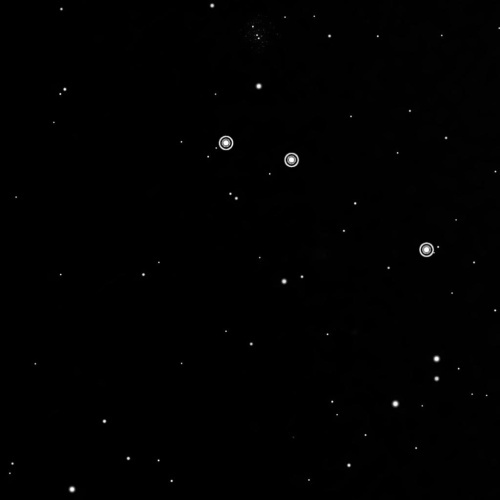vulpecula: (215, 131, 437, 261)
